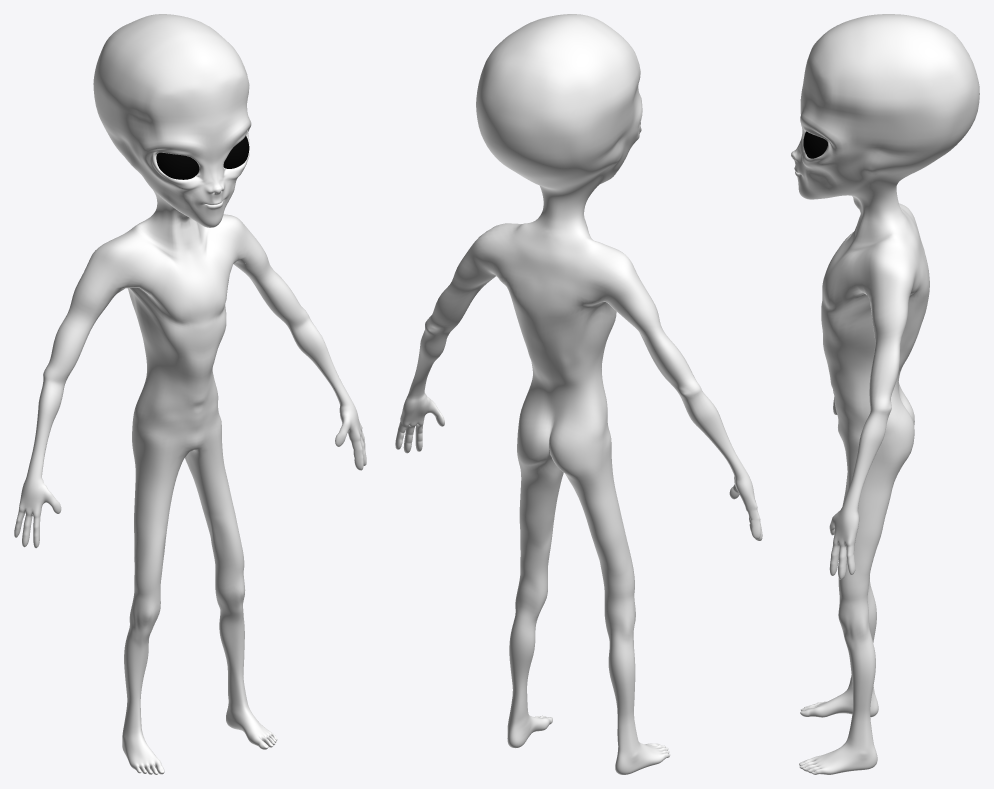
Rendered from аватар mvxtra.glb.
3 views of the same model, side by side, from view 1: azimuth 30°, elevation 25°; view 2: azimuth 150°, elevation 25°; view 3: azimuth 270°, elevation 25° (orthographic). The views are drawn at different scales.
Parts seen in each view (by area): view 1: _gltfNode_2, _gltfNode_3, _gltfNode_0; view 2: _gltfNode_2, _gltfNode_3; view 3: _gltfNode_3, _gltfNode_2, _gltfNode_0.
Boxes of the visible parts, bbox=[...] form: _gltfNode_2: bbox=[80, 190, 277, 774]; _gltfNode_3: bbox=[14, 14, 366, 548]; _gltfNode_0: bbox=[156, 136, 249, 179]; _gltfNode_2: bbox=[463, 183, 670, 774]; _gltfNode_3: bbox=[395, 14, 762, 540]; _gltfNode_3: bbox=[791, 14, 979, 579]; _gltfNode_2: bbox=[796, 172, 929, 774]; _gltfNode_0: bbox=[803, 131, 827, 158].
Bounding box in the file's own units: 1.11 × 2.16 × 0.5103.
3 materials, 2 textured.
